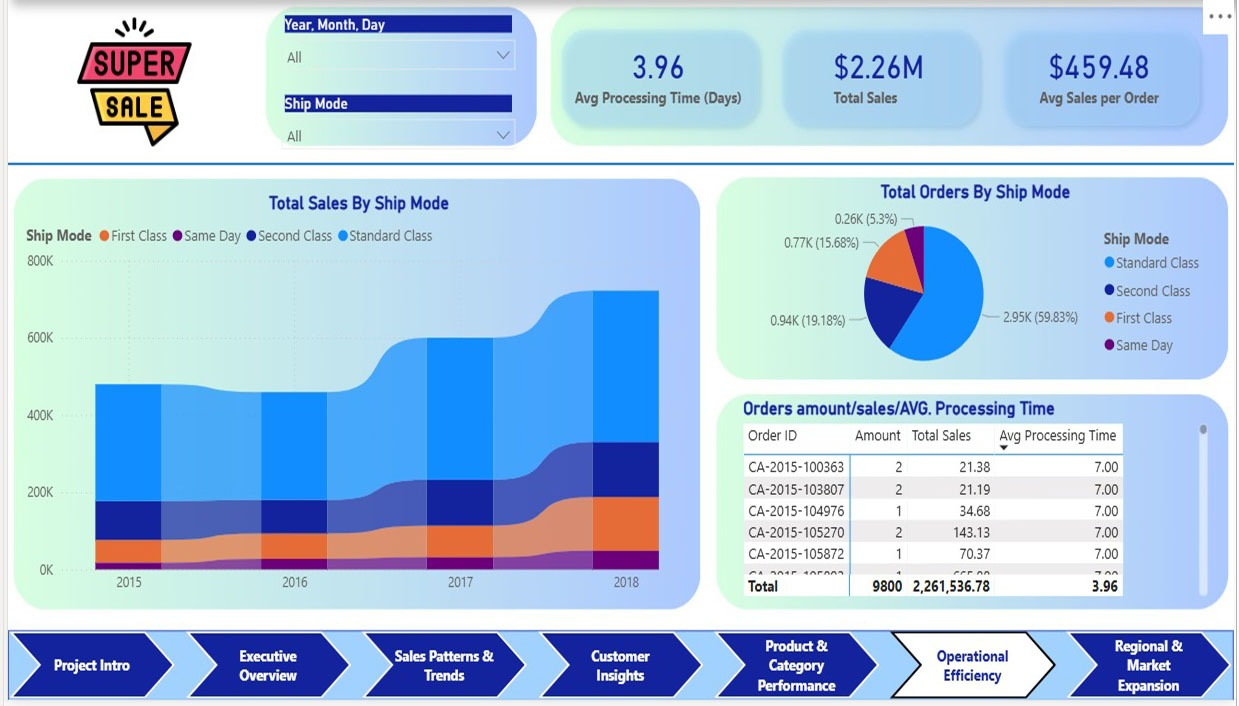

Layout of this report page (visuals, bound fields, positions):
{"tool":"powerbi","page":{"name":"Operational Efficiency","canvas":[1280,720],"ordinal":5},"visuals":[{"type":"pageNavigator","box":[0,655.5,1273.6,64.5],"z":1000},{"type":"image","box":[0,84.4,262.4,133.2],"z":2000},{"type":"slicer","fields":{"Values":["Date.Date.Variation.Date Hierarchy.Year","Date.Date.Variation.Date Hierarchy.Month","Date.Date.Variation.Date Hierarchy.Day"]},"box":[274.7,84.6,262.4,72.4],"z":3000},{"type":"slicer","fields":{"Values":["Dim_Ship.Ship Mode"]},"box":[274.7,157,262.4,72.4],"z":4000},{"type":"cardVisual","fields":{"Data":["Cust. & Ship. Measures.Avg Processing Time","Sales Measure.Total Sales","Sales Measure.Avg Sales per Order"]},"box":[537.1,84.6,737,125.1],"z":5000},{"type":"shape","box":[0,209.7,1280.2,31.9],"z":6000},{"type":"ribbonChart","title":"Total Sales By Ship Mode","fields":{"Category":["Date.Date.Variation.Date Hierarchy.Year","Date.Date.Variation.Date Hierarchy.Month"],"Y":["Sales Measure.Total Sales"],"Series":["Dim_Ship.Ship Mode"]},"box":[14,252.5,701.3,377.1],"z":7000},{"type":"pieChart","title":"Total Orders By Ship Mode","fields":{"Category":["Dim_Ship.Ship Mode"],"Y":["Count(Superstore Sales Dataset.Order ID)"]},"box":[759,241.6,492.5,188.6],"z":8000},{"type":"pivotTable","title":"Orders amount/sales/AVG. Processing Time","fields":{"Rows":["Superstore Sales Dataset.Order ID"],"Values":["CountNonNull(Superstore Sales Dataset.Product ID)","Sales Measure.Total Sales","Cust. & Ship. Measures.Avg Processing Time"]},"box":[759,441,492.5,188.6],"z":9000}]}

Visuals, with their boxes in screenshot pixels (x1, y1, x2, y2), scaled from the page's 1280x720 canvas onto the 1239x706 screenshot:
pageNavigator: {"x1": 0, "y1": 643, "x2": 1233, "y2": 705}
image: {"x1": 0, "y1": 83, "x2": 254, "y2": 213}
slicer - Date.Date.Variation.Date Hierarchy.Year x Date.Date.Variation.Date Hierarchy.Month: {"x1": 266, "y1": 83, "x2": 520, "y2": 154}
slicer - Dim_Ship.Ship Mode: {"x1": 266, "y1": 154, "x2": 520, "y2": 225}
cardVisual - Cust. & Ship. Measures.Avg Processing Time x Sales Measure.Total Sales: {"x1": 520, "y1": 83, "x2": 1233, "y2": 206}
shape: {"x1": 0, "y1": 206, "x2": 1238, "y2": 237}
"Total Sales By Ship Mode" ribbonChart: {"x1": 14, "y1": 248, "x2": 692, "y2": 617}
"Total Orders By Ship Mode" pieChart: {"x1": 735, "y1": 237, "x2": 1211, "y2": 422}
"Orders amount/sales/AVG. Processing Time" pivotTable: {"x1": 735, "y1": 432, "x2": 1211, "y2": 617}
